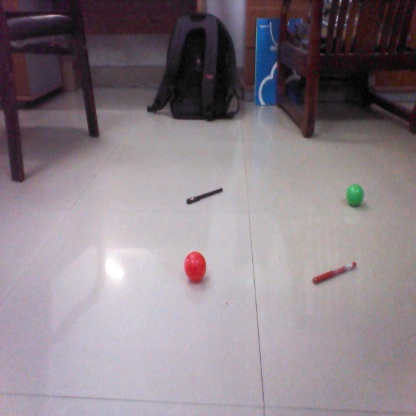ball: (181, 251, 208, 282), (344, 183, 364, 205)
pen: (313, 261, 355, 284), (186, 188, 224, 203)
